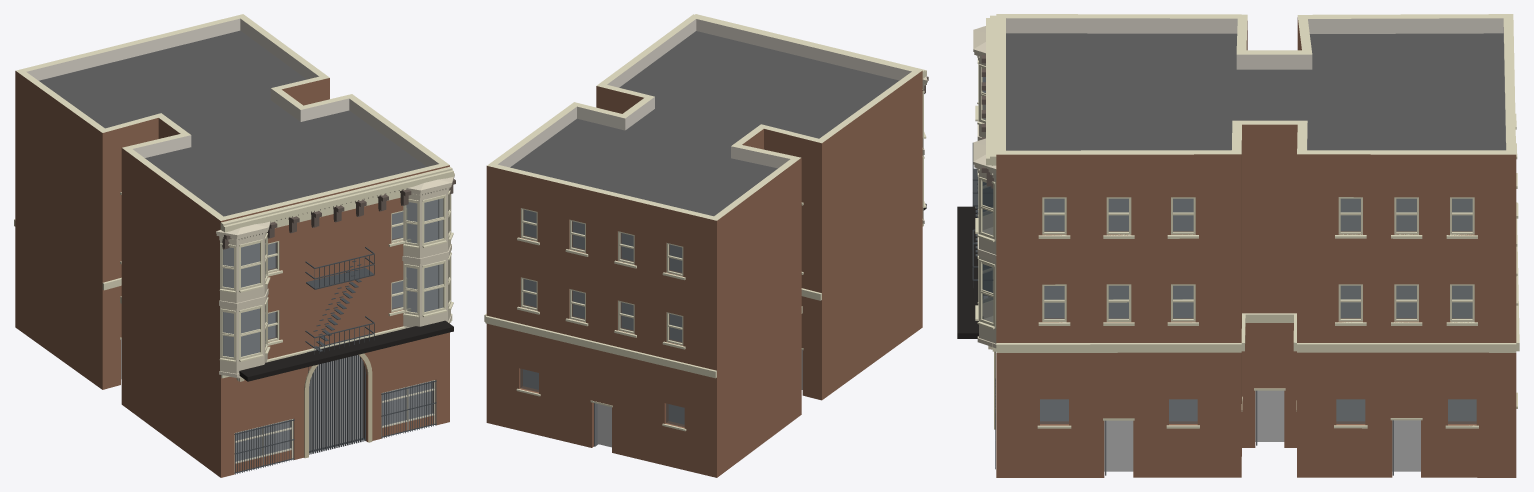
File: exterior.glb
3 views of the same model, side by side, from view 1: azimuth 30°, elevation 25°; view 2: azimuth 150°, elevation 25°; view 3: azimuth 270°, elevation 25° (orthographic). The views are drawn at different scales.
Parts seen in each view (by area): view 1: shell, roof, shadow-proxy, bay-glazing-hyb, storefront, bay-windows-hyb, trim, glazing, hand-ornament, fire-escape, front-dressing-r4, hyC-arches-6 (+1 smaller); view 2: shell, roof, trim, shadow-proxy, glazing, frames; view 3: shell, roof, shadow-proxy, glazing, trim, frames, bay-glazing-hyb, hand-ornament, bay-windows-hyb, fire-escape, storefront.
Boxes of the visible parts, x1,y1,x2,y2 form: shell: (15, 14, 449, 477); roof: (39, 30, 426, 216); shadow-proxy: (121, 200, 437, 460); bay-glazing-hyb: (219, 190, 453, 362); storefront: (120, 337, 436, 474); bay-windows-hyb: (216, 173, 454, 378); trim: (14, 166, 453, 378); glazing: (235, 211, 433, 461); hand-ornament: (236, 320, 453, 381); fire-escape: (305, 247, 374, 354); front-dressing-r4: (222, 179, 455, 249); hyC-arches-6: (304, 352, 372, 458); shell: (486, 14, 922, 477); roof: (510, 31, 899, 216); trim: (484, 14, 926, 431); shadow-proxy: (523, 210, 802, 447); glazing: (520, 209, 684, 426); frames: (521, 208, 683, 345); shell: (996, 14, 1516, 477); roof: (1006, 33, 1505, 150); shadow-proxy: (1040, 199, 1476, 471); glazing: (1040, 198, 1476, 424); trim: (986, 15, 1519, 428); frames: (1042, 197, 1474, 321); bay-glazing-hyb: (975, 58, 995, 329); hand-ornament: (957, 206, 992, 349); bay-windows-hyb: (973, 26, 996, 348); fire-escape: (972, 143, 992, 291); storefront: (995, 352, 1422, 475).
Size of the model in its own units: 12.03 by 12.36 by 19.49.
